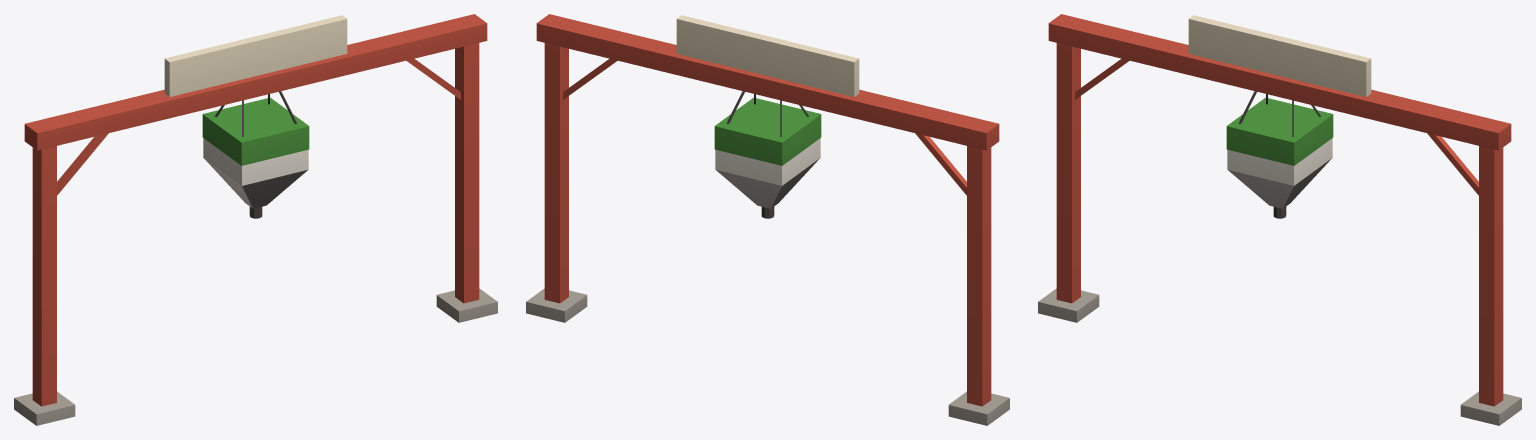
File: seed_station.glb
The picture shows the model from 3 angles, left to right: view 1: azimuth 30°, elevation 25°; view 2: azimuth 150°, elevation 25°; view 3: azimuth 330°, elevation 25°; orthographic projection.
Parts seen in each view (by area): view 1: seed_station; view 2: seed_station; view 3: seed_station.
Boxes of the visible parts, x1,y1,x2,y2 form: seed_station: [14, 14, 497, 425]; seed_station: [526, 14, 1009, 425]; seed_station: [1038, 14, 1521, 425].
Bounding box in the file's own units: 8.3 × 5.55 × 1.22.
Materials: 1 (1 with a texture image).
